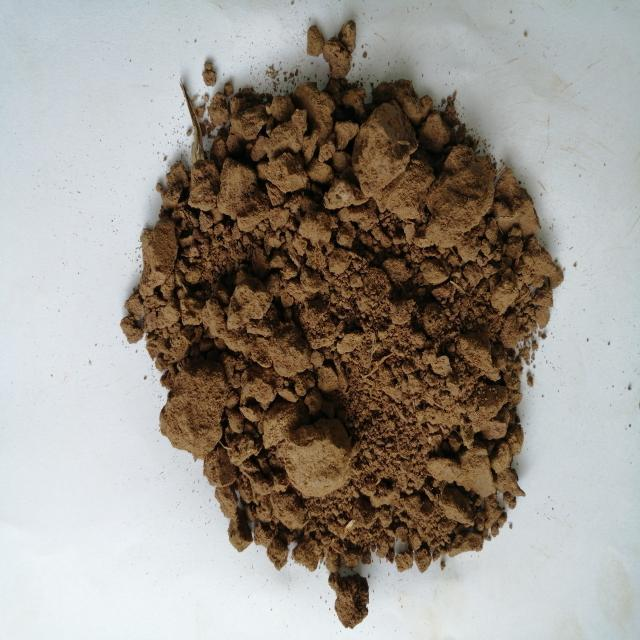soil: (190, 160, 498, 512)
